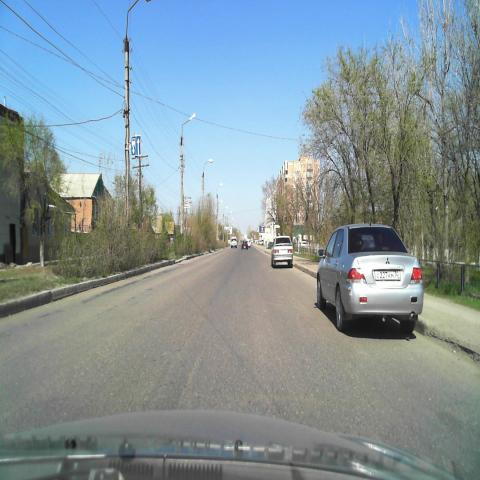5_11: (132, 134, 142, 156)
